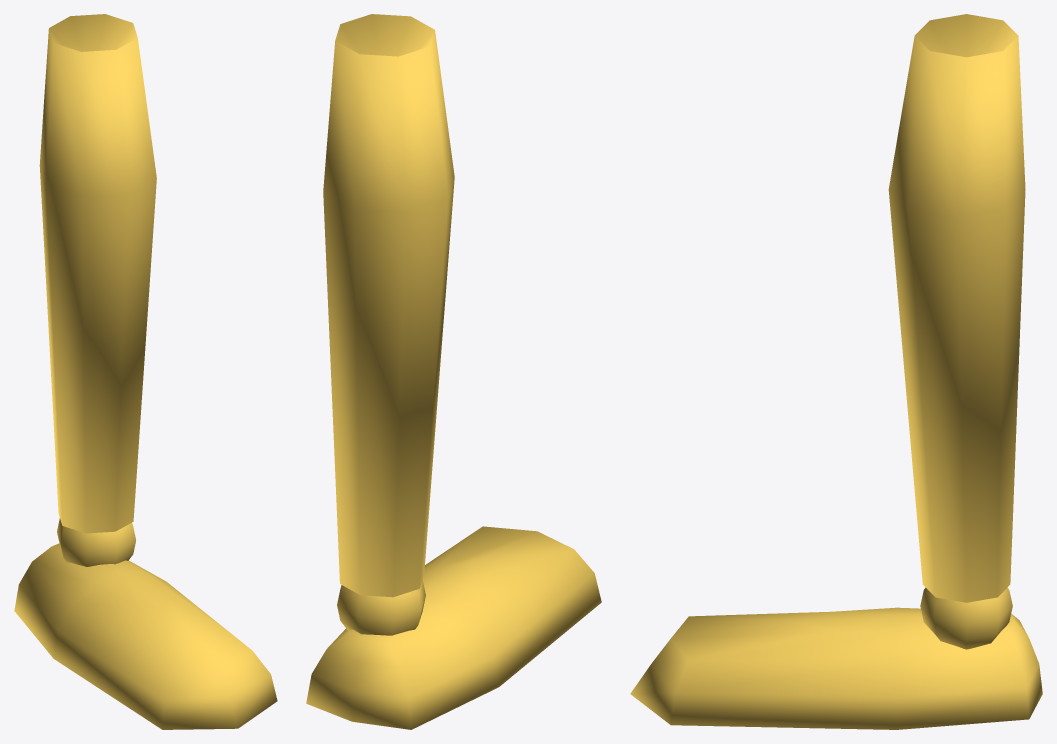
Rendered from foot.obj.
The picture shows the model from 3 angles, left to right: view 1: azimuth 30°, elevation 25°; view 2: azimuth 150°, elevation 25°; view 3: azimuth 270°, elevation 25°; orthographic projection. The views are drawn at different scales.
Parts seen in each view (by area): view 1: Cylinder.007, Sphere.014_Sphere.017; view 2: Cylinder.007, Sphere.014_Sphere.017; view 3: Cylinder.007, Sphere.014_Sphere.017.
Part boxes in pixels (box(x1,y1,x2,y2)): Cylinder.007: box(39, 14, 156, 533); Sphere.014_Sphere.017: box(14, 518, 277, 729); Cylinder.007: box(323, 14, 454, 597); Sphere.014_Sphere.017: box(306, 526, 601, 729); Cylinder.007: box(888, 14, 1025, 602); Sphere.014_Sphere.017: box(630, 587, 1042, 729).
Size of the model in its own units: 1 by 4.24 by 2.39.
